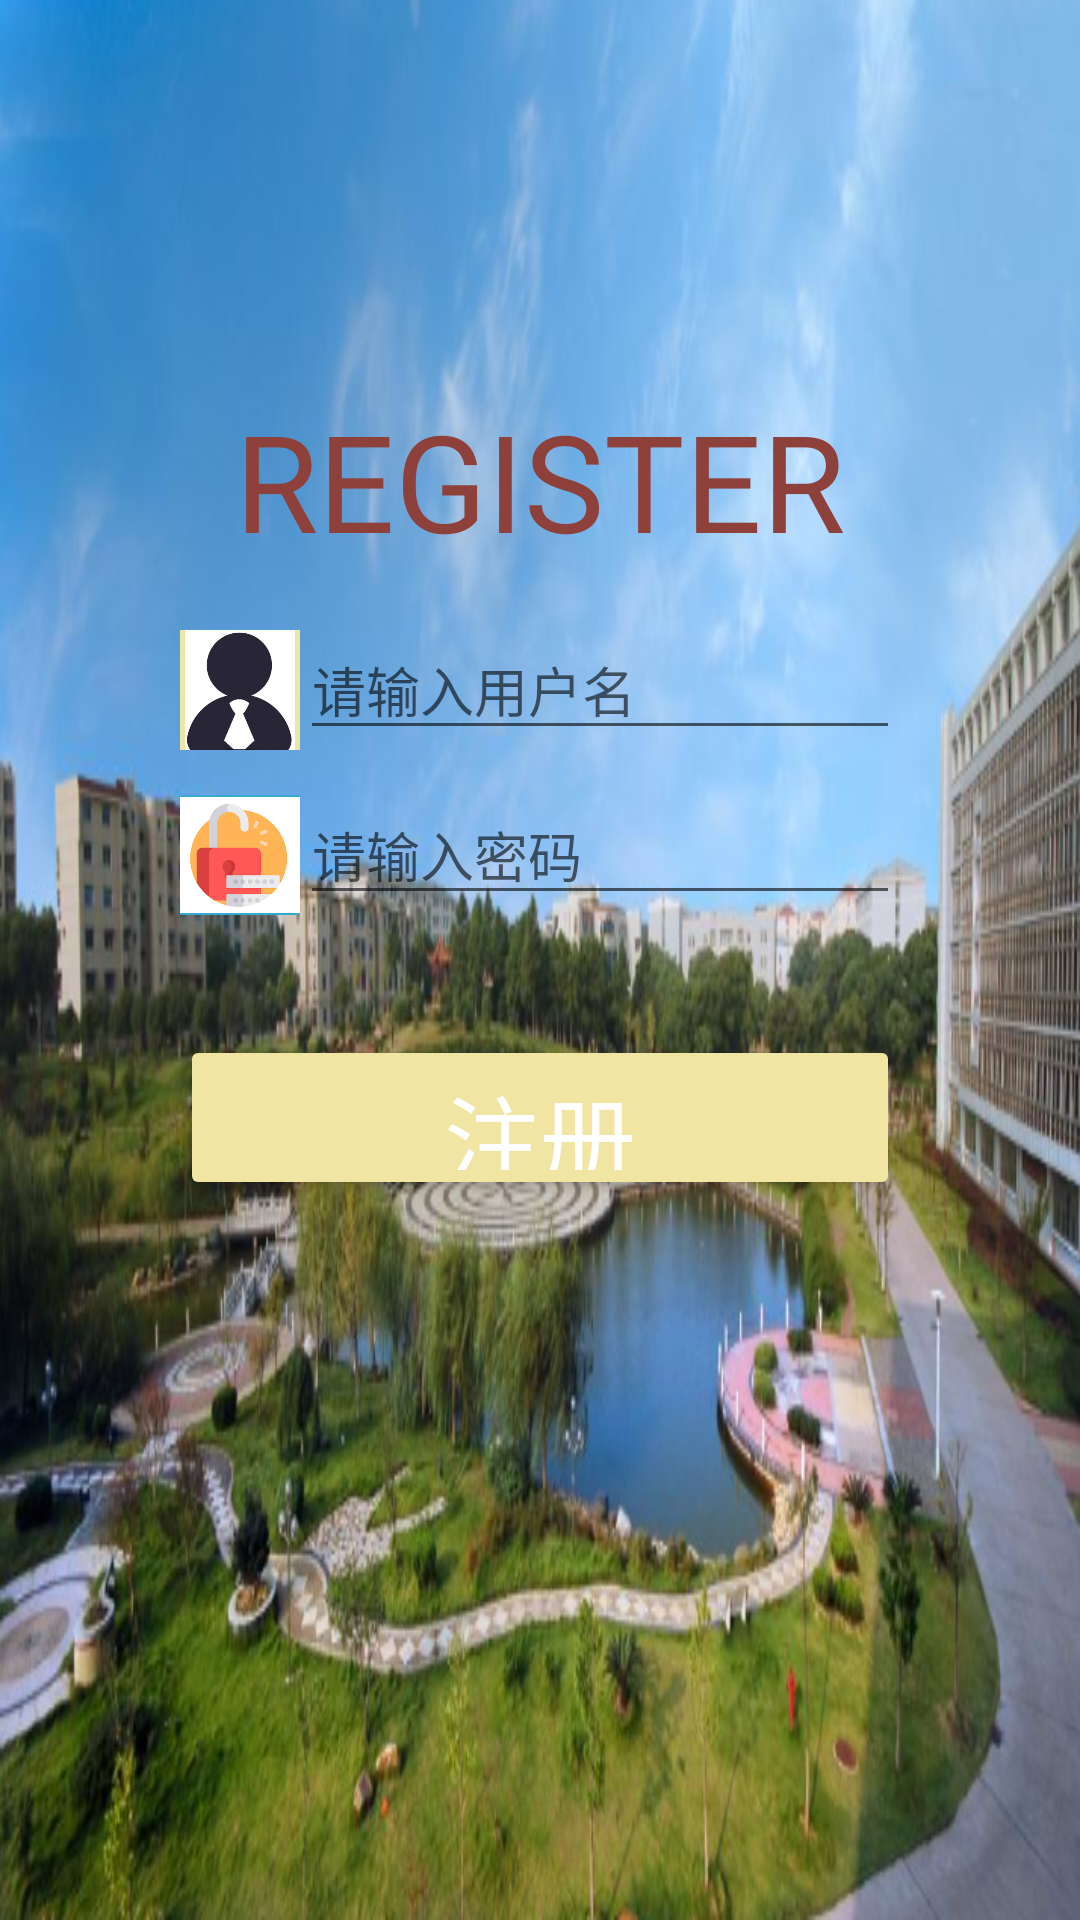

Where to tap for icons on this 1080×1920 app screen, as point (x, y):
mima: point (240, 855)
zhanghao: point (240, 690)
